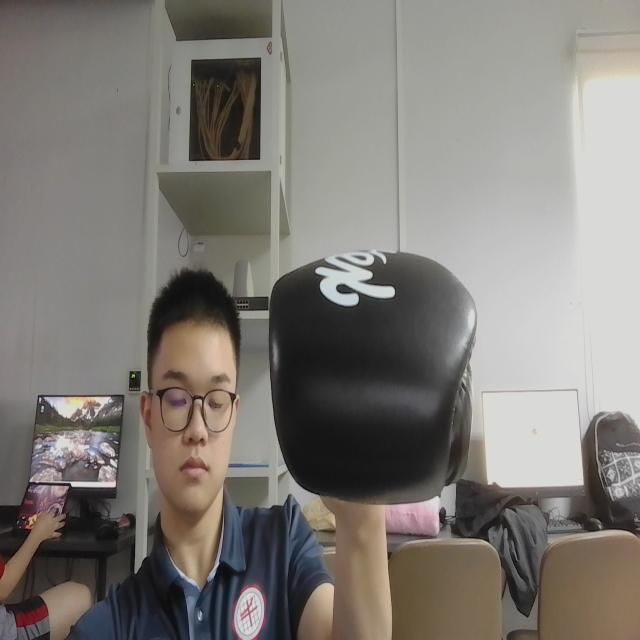boxing glove: (258, 240, 483, 518)
